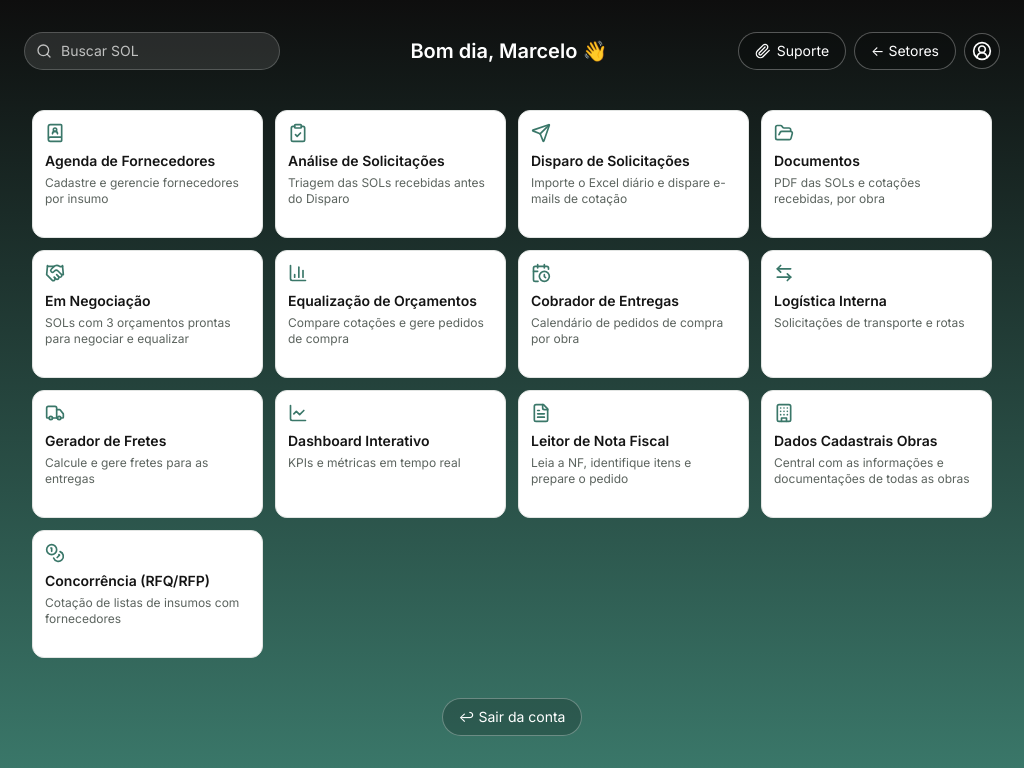
Test: SuprimentosPage › abre o quadro de funcionalidades ao clicar no botão Suporte
Step 1. Click the button with aria-label "Abrir suporte" → click(792, 51), box [738,32,846,70]
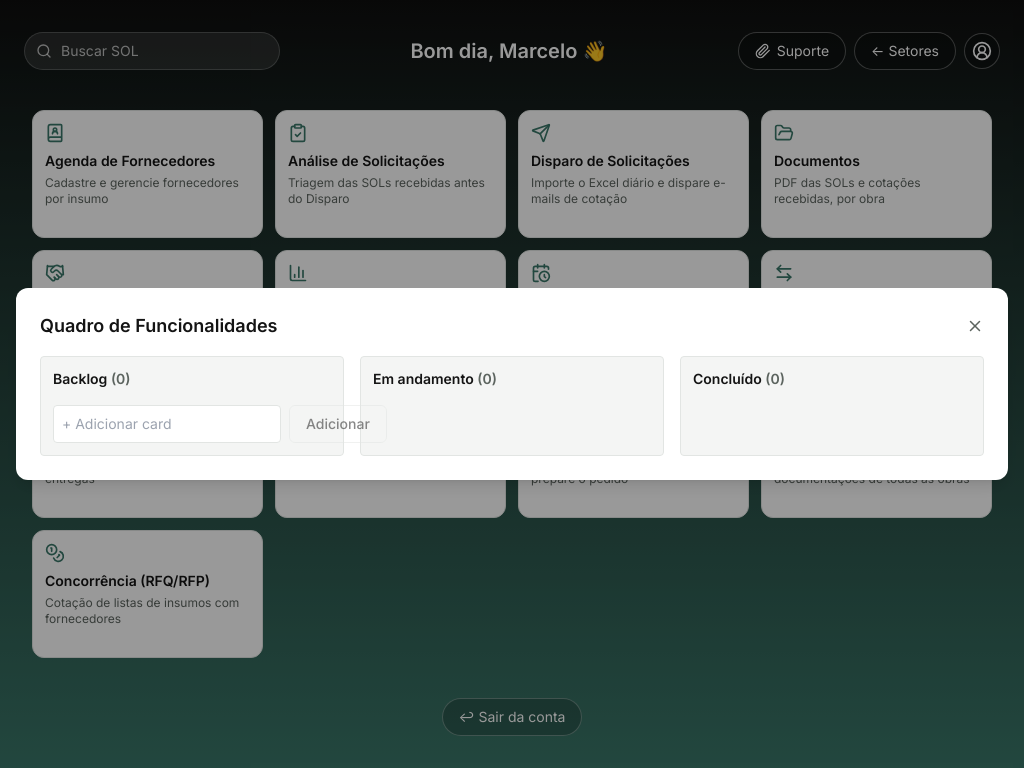
Now the dialog is shown, box [16,288,1008,480]
Now the heading "Quadro de Funcionalidades" is shown, box [40,312,277,340]
